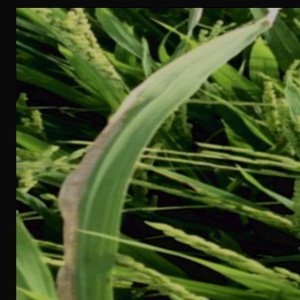Leaf_Blast: (59, 116, 136, 300)
